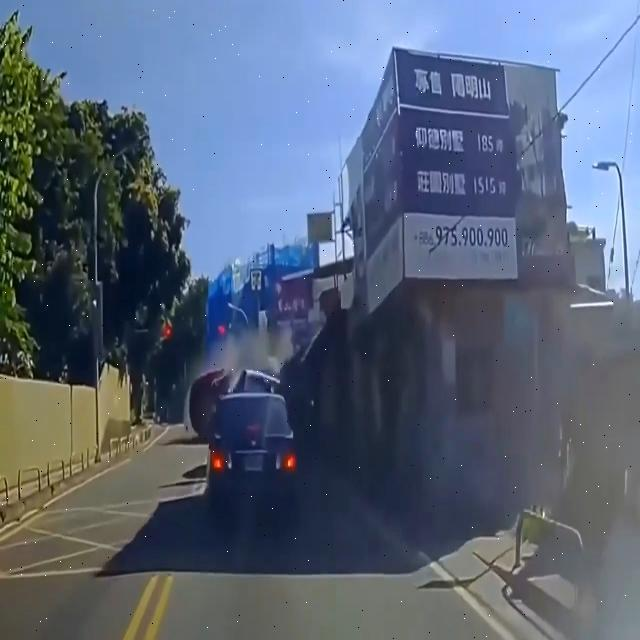accident: (178, 337, 307, 444)
